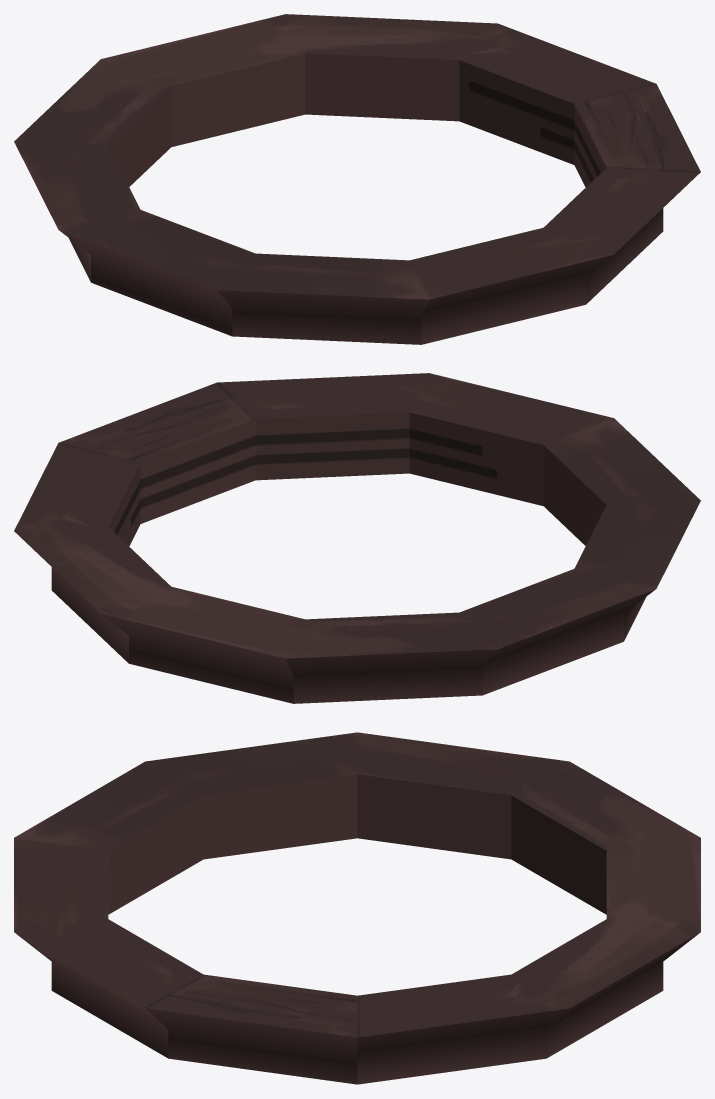
The model's file is bartable.fbx.
3 views of the same model, one above another, from view 1: azimuth 30°, elevation 25°; view 2: azimuth 150°, elevation 25°; view 3: azimuth 270°, elevation 25° (orthographic). The views are drawn at different scales.
Parts seen in each view (by area): view 1: pCylinder3; view 2: pCylinder3; view 3: pCylinder3.
Boxes of the visible parts, x1=… form: pCylinder3: x1=14, y1=14, x2=700, y2=344; pCylinder3: x1=14, y1=373, x2=700, y2=703; pCylinder3: x1=14, y1=732, x2=700, y2=1084.
Bounding box in the file's own units: 40 × 3.91 × 38.04.
1 material, 1 textured.
